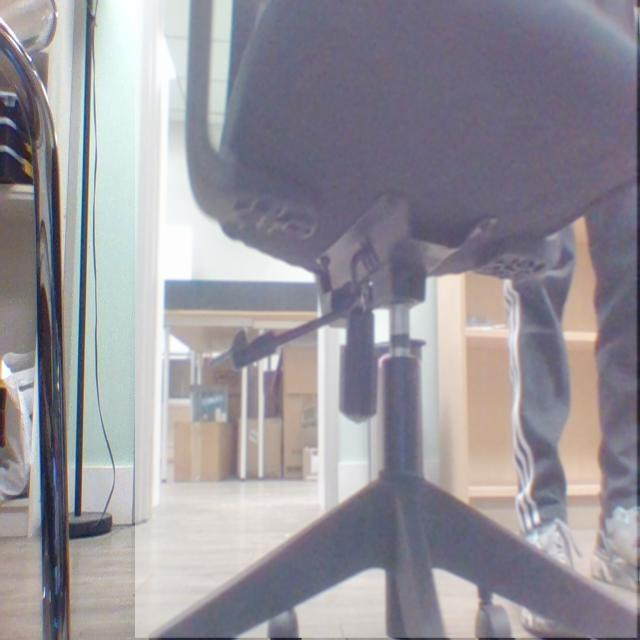black-chair: (136, 0, 640, 639)
